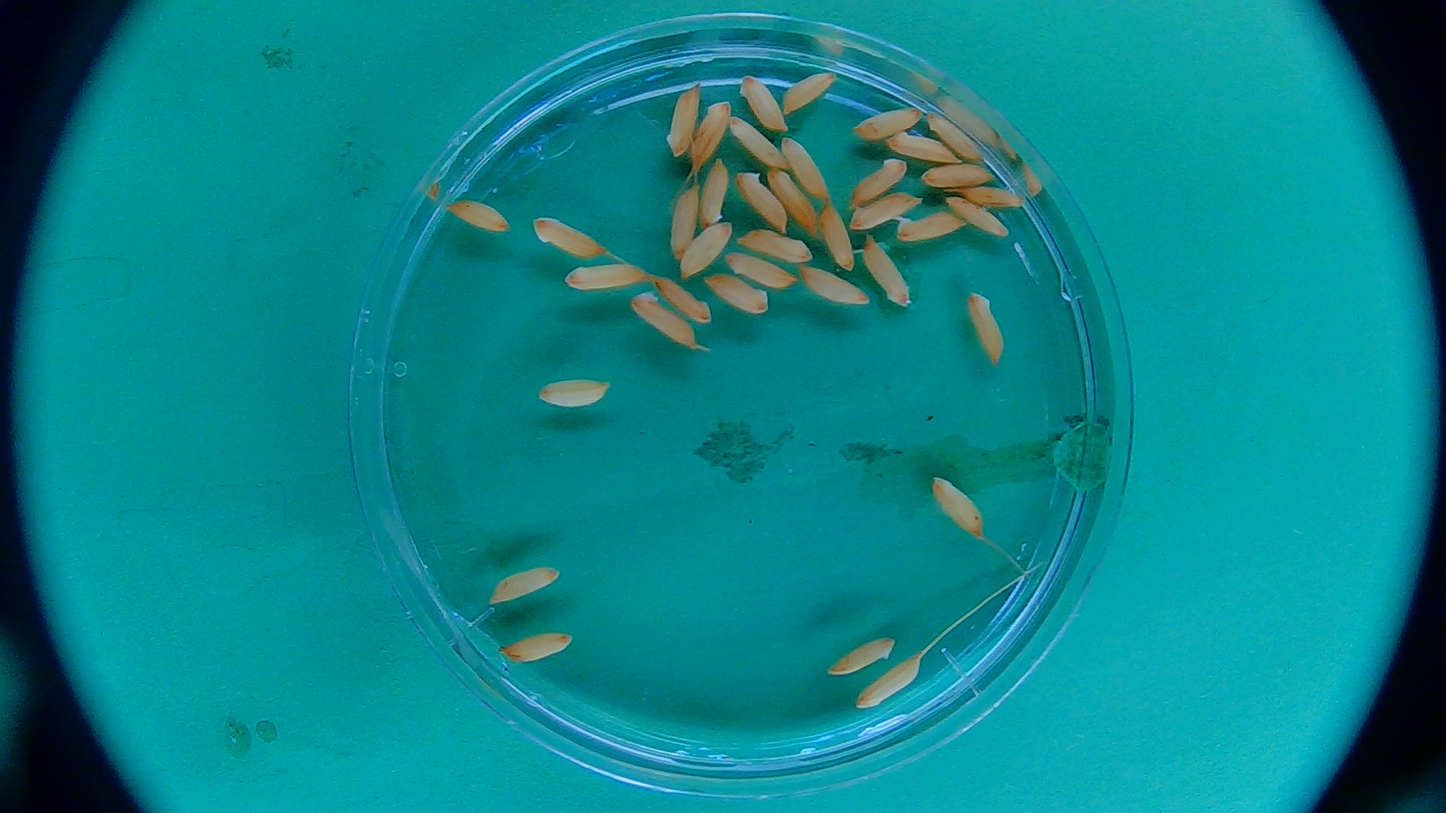no: (719, 245, 810, 302), (724, 104, 799, 171), (702, 264, 778, 321), (843, 148, 914, 209), (732, 163, 793, 234), (850, 659, 935, 709), (763, 164, 822, 236), (932, 470, 990, 540), (732, 68, 792, 134), (798, 260, 877, 309), (779, 133, 831, 206), (529, 213, 609, 260), (557, 261, 659, 297), (630, 295, 698, 349), (943, 190, 1011, 244), (740, 219, 816, 266), (883, 128, 968, 170), (689, 96, 730, 179), (813, 198, 857, 273), (859, 239, 908, 306), (966, 289, 1010, 363), (484, 568, 567, 607), (825, 637, 908, 676), (664, 186, 703, 269), (652, 276, 714, 328), (679, 223, 737, 278), (531, 376, 617, 413), (927, 111, 986, 163), (667, 78, 706, 156), (701, 148, 737, 230), (498, 628, 581, 663), (850, 194, 923, 233), (447, 193, 513, 234), (778, 75, 840, 115), (857, 102, 925, 138), (966, 176, 1026, 215), (923, 161, 1000, 191)
yes: (894, 214, 970, 244)
